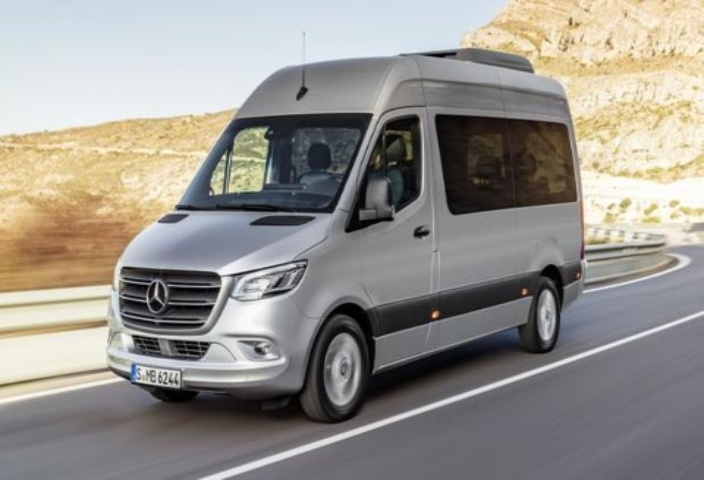van: (96, 43, 624, 429)
